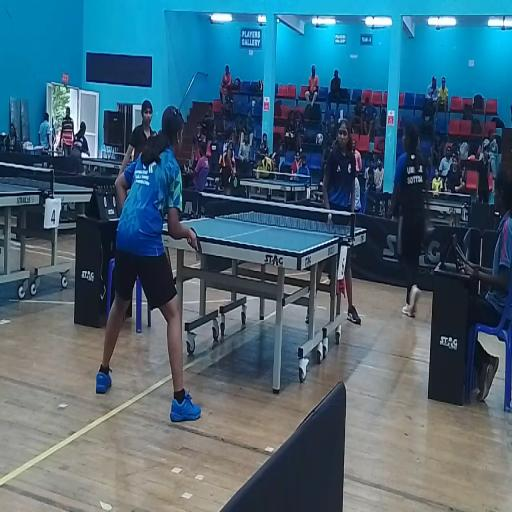ball: (328, 214, 332, 220)
